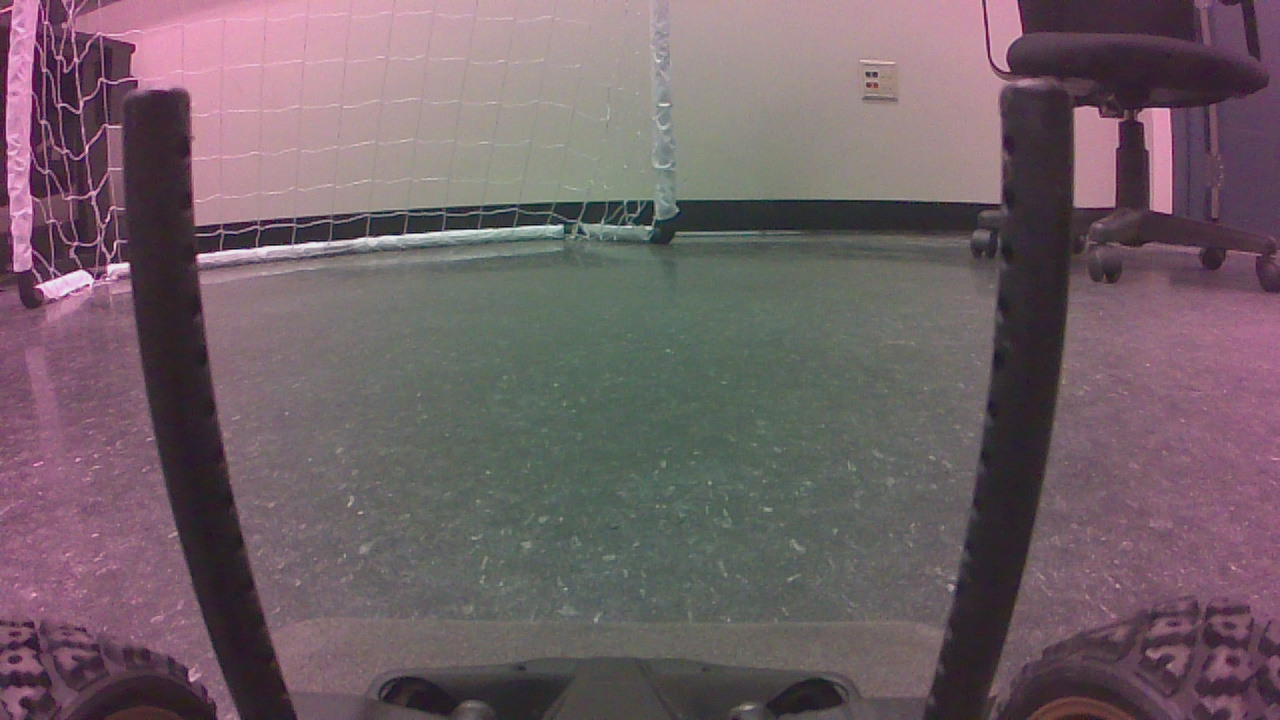goal: (14, 4, 683, 314)
